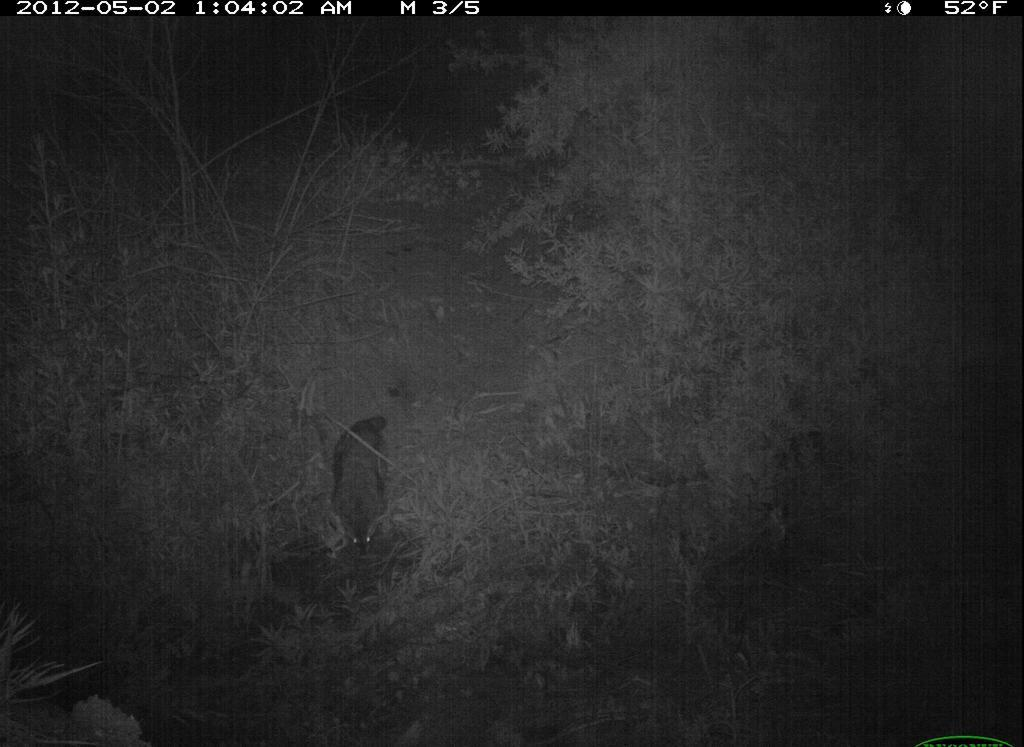raccoon: (300, 401, 408, 553)
